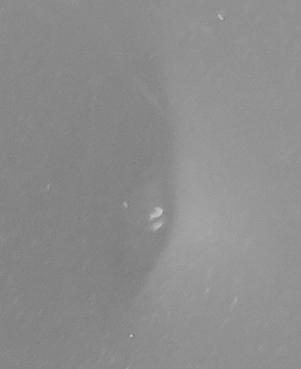dent: (1, 1, 301, 369)
